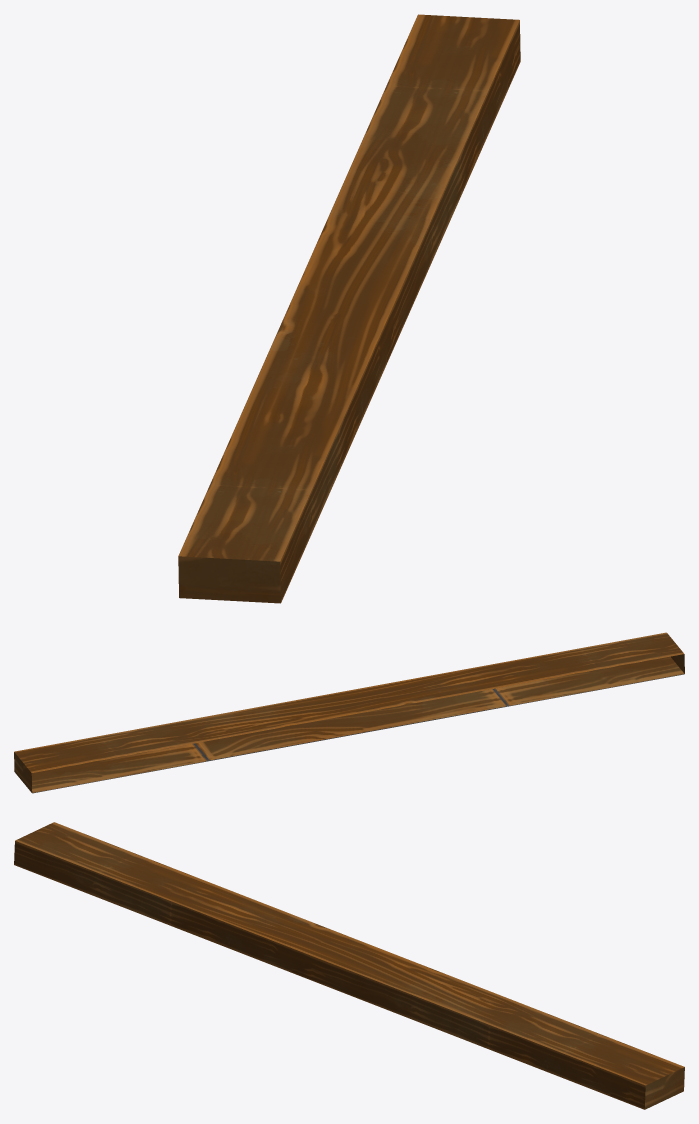
The picture shows the model from 3 angles, top to bottom: view 1: azimuth 30°, elevation 25°; view 2: azimuth 150°, elevation 25°; view 3: azimuth 270°, elevation 25°; orthographic projection. The views are drawn at different scales.
Visible parts, largest first — view 1: Cube.2078; view 2: Cube.2078; view 3: Cube.2078.
Part boxes in pixels (box(x1,y1,x2,y2)): Cube.2078: box(178, 14, 520, 603); Cube.2078: box(14, 632, 684, 793); Cube.2078: box(14, 822, 684, 1109).
Bounding box in the file's own units: 392 × 35.67 × 457.
1 material, 1 textured.
